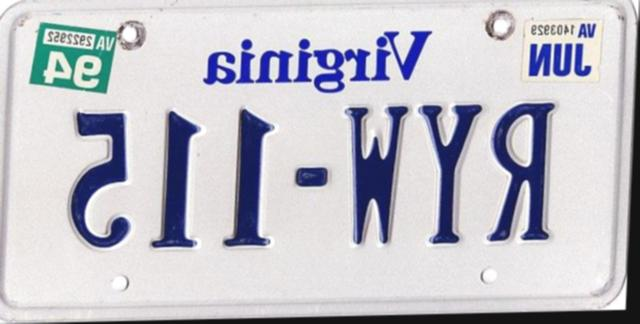License_Plate: (0, 0, 623, 313)
